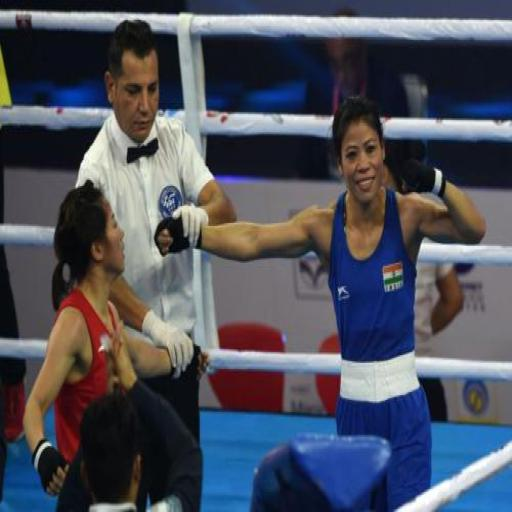boxing: (154, 94, 486, 510)
